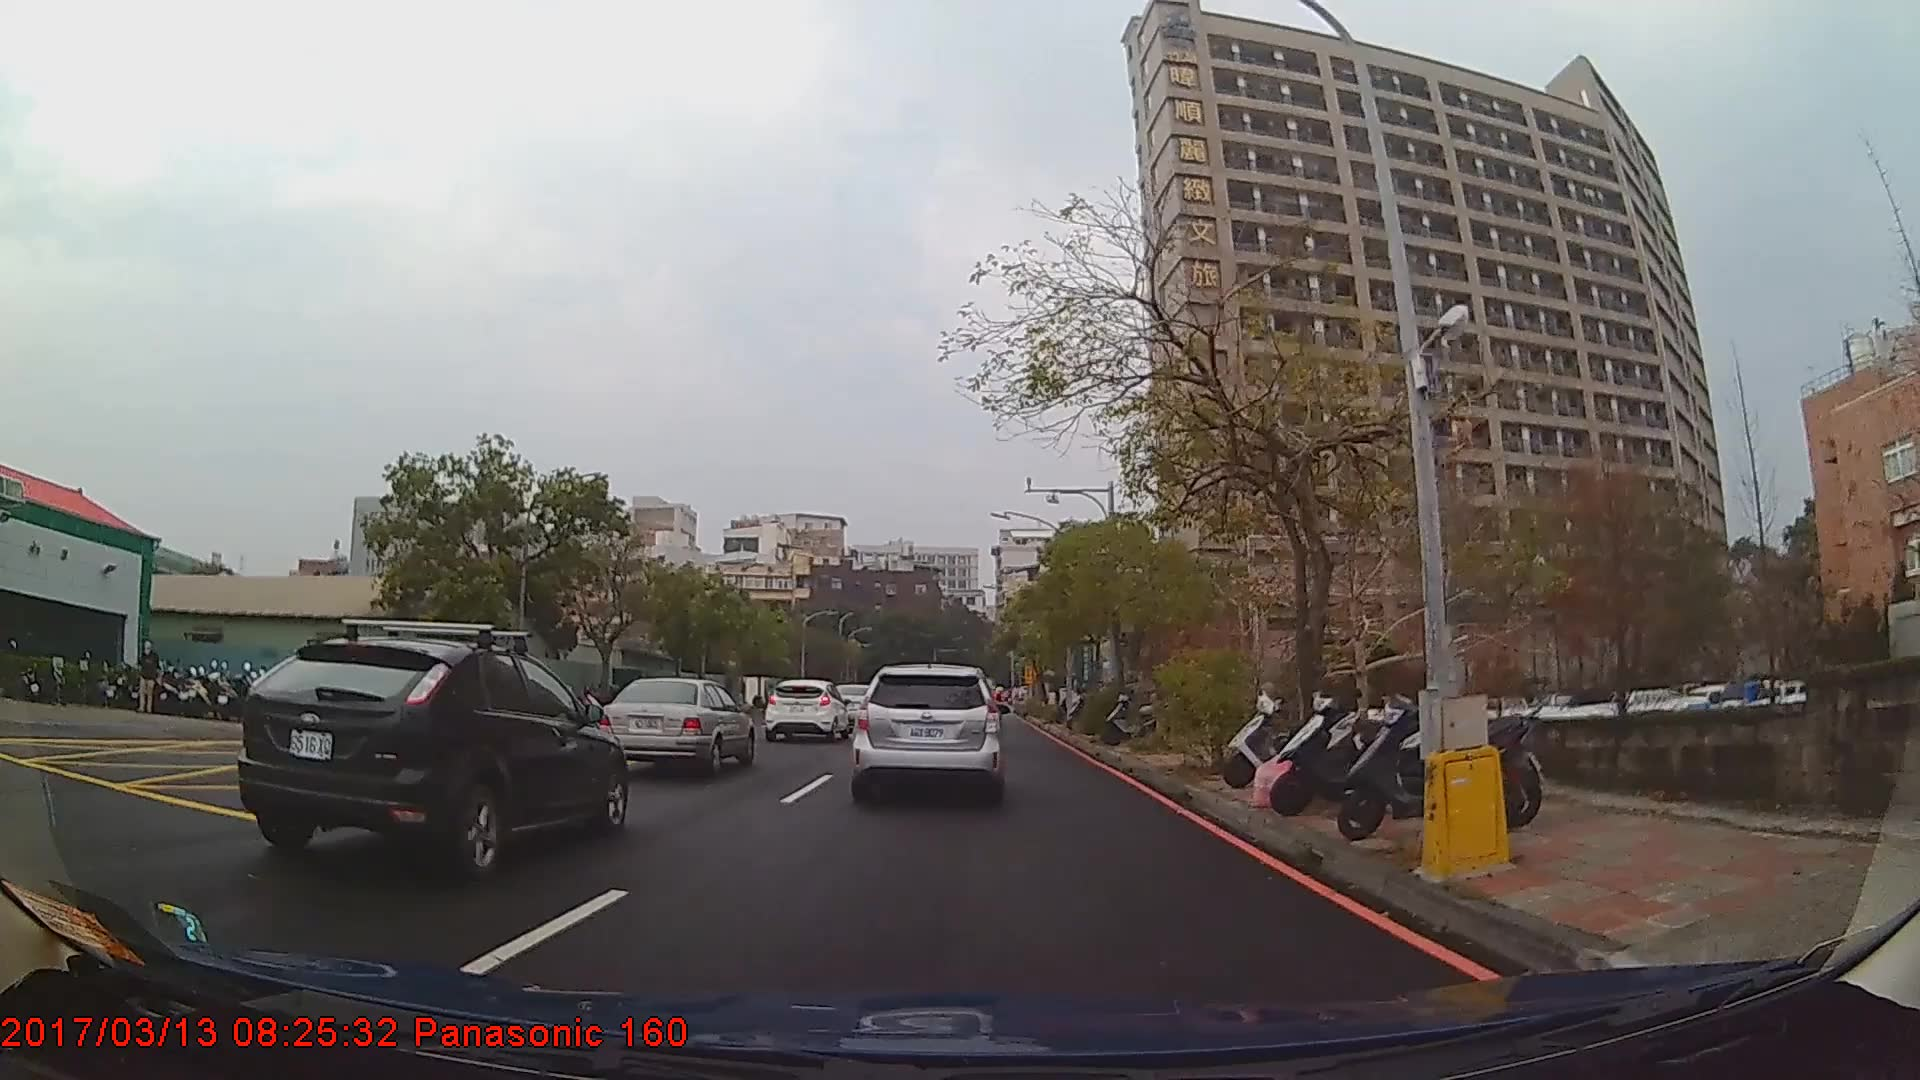pedestrian: (138, 640, 163, 715)
vehicle: (235, 632, 626, 870), (848, 659, 1000, 801), (595, 674, 753, 772), (761, 676, 850, 740)
